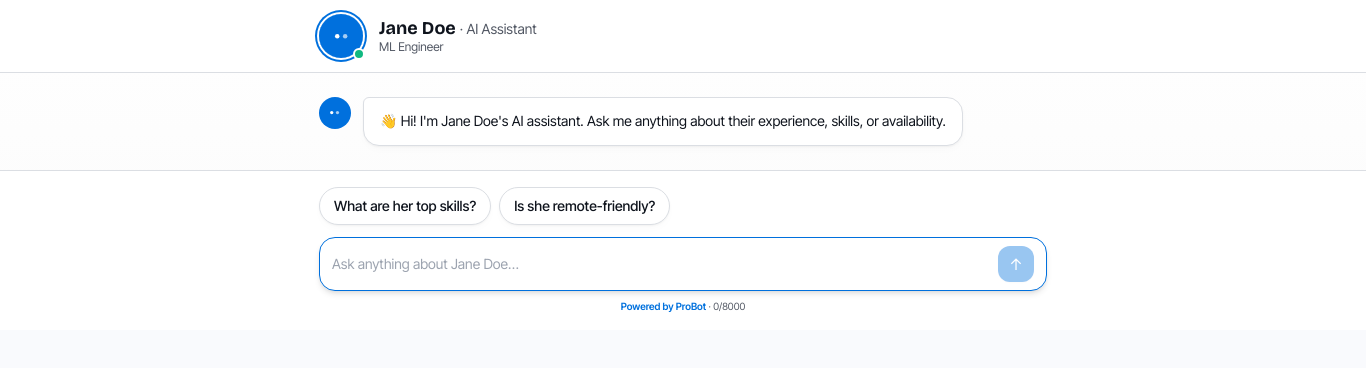
ChatWindow › renders the rate-limit sentinel on a 429
The image size is (1366, 368).
Type "go" into the text box at (661, 264), box x1=332 y1=246 x2=990 y2=282
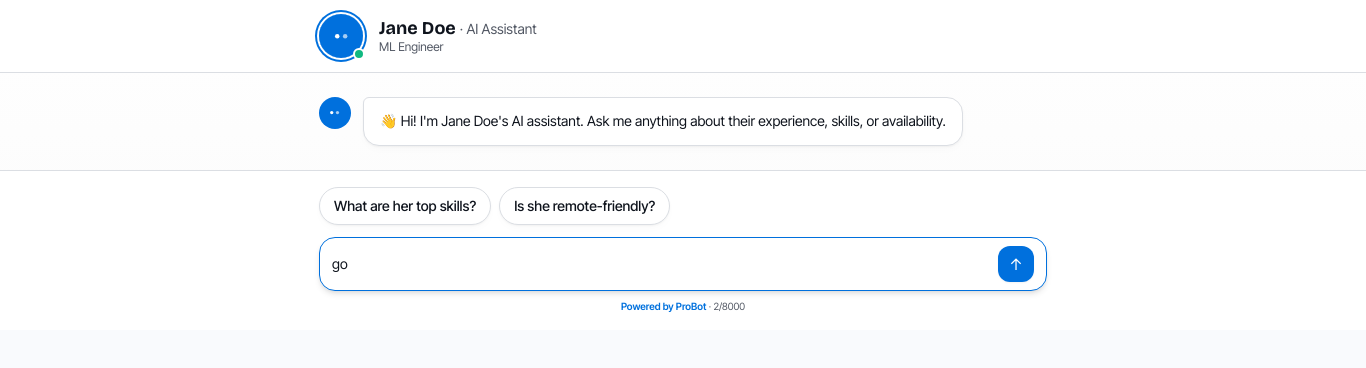
Click the button named "send message" at (1016, 264), box x1=998 y1=246 x2=1034 y2=282
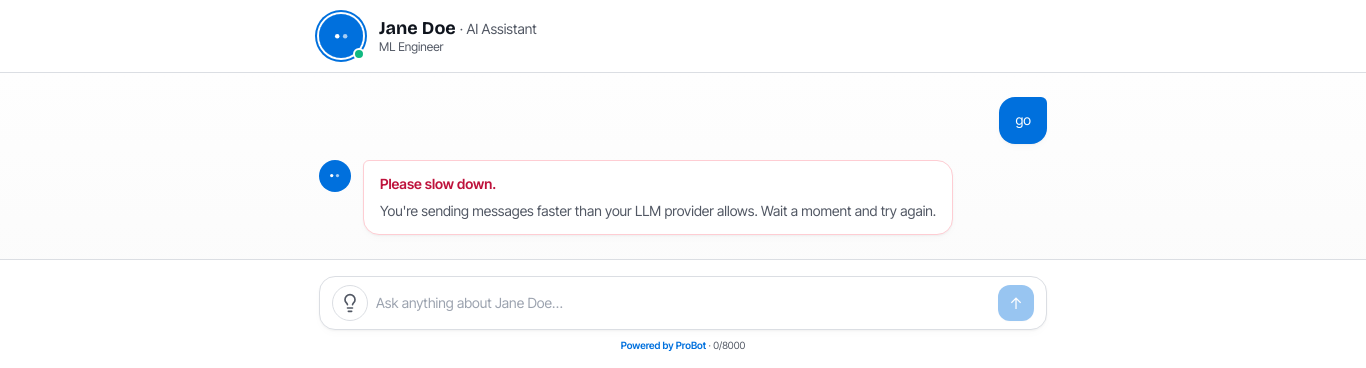
Result: the text "Please slow down." is shown at x1=380 y1=175 x2=496 y2=192
